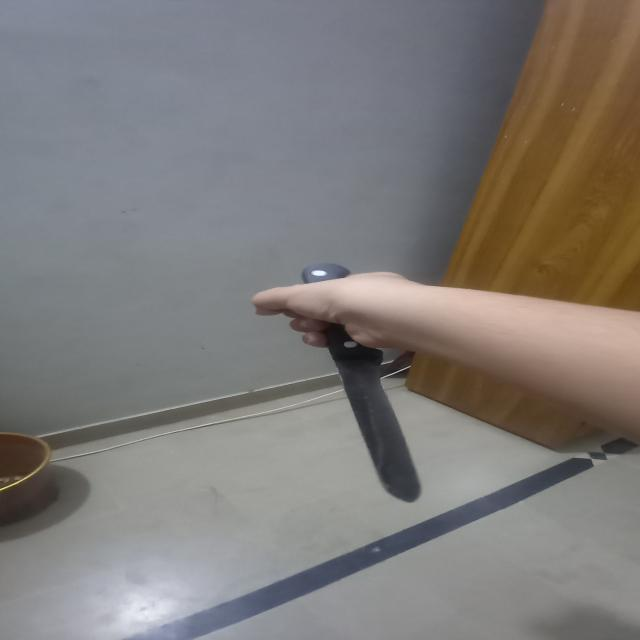Knife: (274, 250, 436, 510)
